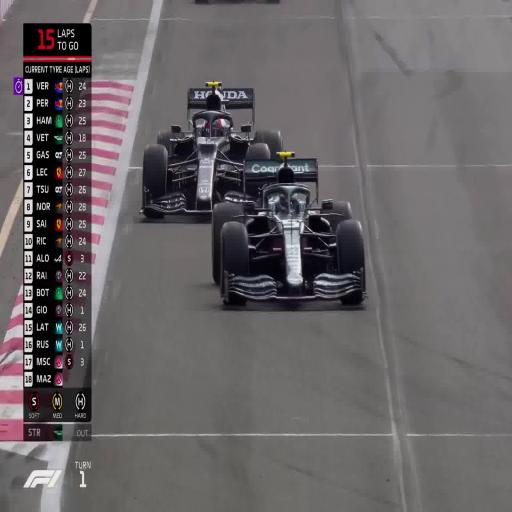f1_car: (212, 153, 366, 304), (140, 82, 282, 218), (247, 189, 251, 192), (315, 198, 316, 201)
